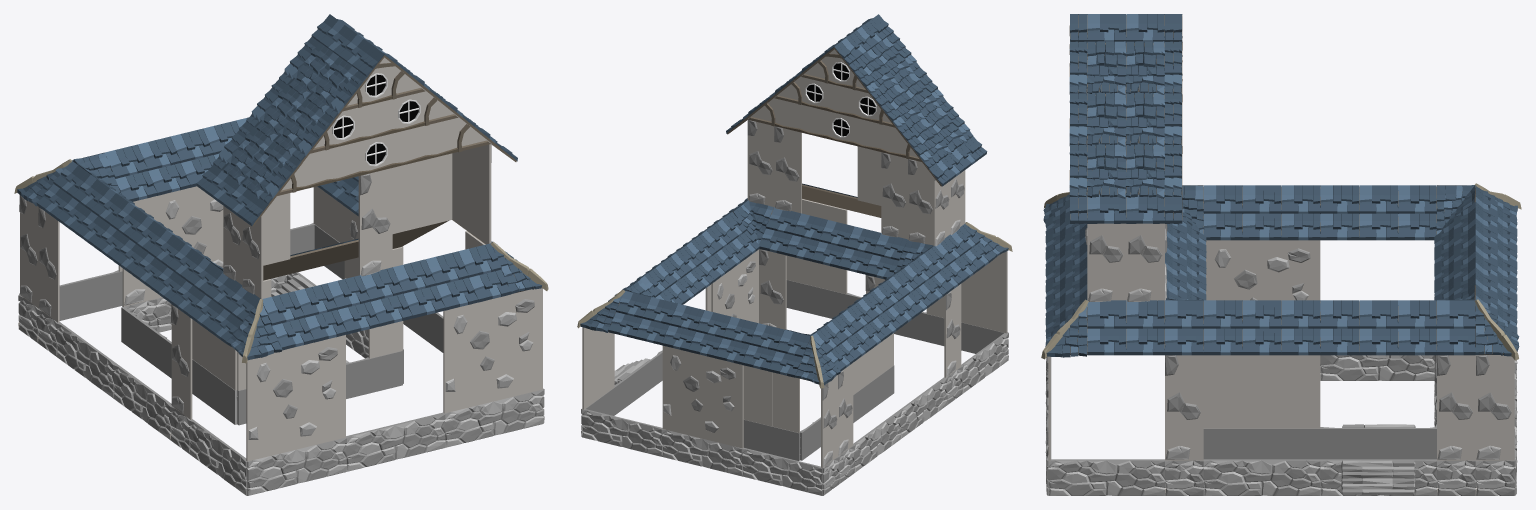
File: HOUSE_7_PARTS.fbx
3 renders of one model, left to right at view 1: azimuth 30°, elevation 25°; view 2: azimuth 150°, elevation 25°; view 3: azimuth 270°, elevation 25°, orthographic. The views are drawn at different scales.
Visible parts, largest first — view 1: WALL_06_3, WALL_06_2, FOUNDATION_01_3, WALL_06_7, WALL_03_8, FOUNDATION_01_2, FOUNDATION_01_4, WALL_03_2, FOUNDATION_01_13, FOUNDATION_01_10, FOUNDATION_01_11, FOUNDATION_01_12 (+91 smaller); view 2: WALL_06_4, WALL_06_2, WALL_06_5, FOUNDATION_01_10, FOUNDATION_01_8, FOUNDATION_01_9, WALL_03_11, WALL_03_12, WALL_06_3, WALL_03_13, WALL_03_14, WALL_03_16 (+82 smaller); view 3: WALL_06_5, WALL_06_6, FOUNDATION_01_6, FOUNDATION_01_5, WALL_03_6, WALL_03_5, WALL_03_7, FOUNDATION_01_19, FOUNDATION_01_18, WALL_03_9, WALL_03_10, FOUNDATION_01_16 (+54 smaller).
Part boxes in pixels (x1,y1,x2,y2): WALL_06_3: [443, 288, 542, 413]; WALL_06_2: [246, 335, 345, 461]; FOUNDATION_01_3: [345, 412, 445, 471]; WALL_06_7: [156, 186, 223, 298]; WALL_03_8: [358, 168, 392, 276]; FOUNDATION_01_2: [247, 437, 346, 495]; FOUNDATION_01_4: [444, 389, 543, 447]; WALL_03_2: [171, 304, 192, 419]; FOUNDATION_01_13: [189, 419, 249, 495]; FOUNDATION_01_10: [19, 270, 119, 321]; FOUNDATION_01_11: [56, 322, 116, 398]; FOUNDATION_01_12: [113, 364, 172, 439]; WALL_06_4: [662, 345, 743, 448]; WALL_06_2: [926, 251, 1007, 333]; WALL_06_5: [711, 249, 758, 323]; FOUNDATION_01_10: [741, 448, 823, 495]; FOUNDATION_01_8: [581, 409, 662, 456]; FOUNDATION_01_9: [661, 429, 742, 476]; WALL_03_11: [774, 126, 801, 213]; WALL_03_12: [747, 119, 774, 207]; WALL_06_3: [786, 199, 847, 294]; WALL_03_13: [881, 152, 907, 239]; WALL_03_14: [908, 159, 934, 245]; WALL_03_16: [759, 249, 786, 329]; WALL_06_5: [1203, 355, 1320, 428]; WALL_06_6: [1206, 240, 1320, 300]; FOUNDATION_01_6: [1203, 459, 1320, 495]; FOUNDATION_01_5: [1048, 459, 1164, 495]; WALL_03_6: [1475, 355, 1514, 460]; WALL_03_5: [1437, 355, 1475, 460]; WALL_03_7: [1165, 355, 1203, 460]; FOUNDATION_01_19: [1203, 428, 1320, 459]; FOUNDATION_01_18: [1320, 427, 1436, 459]; WALL_03_9: [1087, 223, 1125, 301]; WALL_03_10: [1126, 223, 1164, 301]; FOUNDATION_01_16: [1320, 355, 1434, 380].
Bounding box in the file's own units: 1022 × 1159 × 1237.
